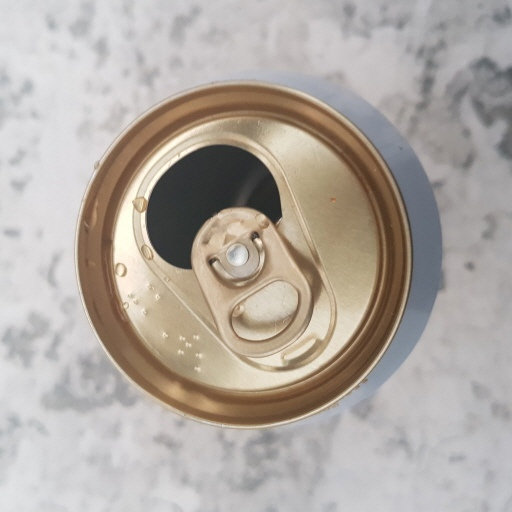Metal_0: (72, 70, 445, 432)
